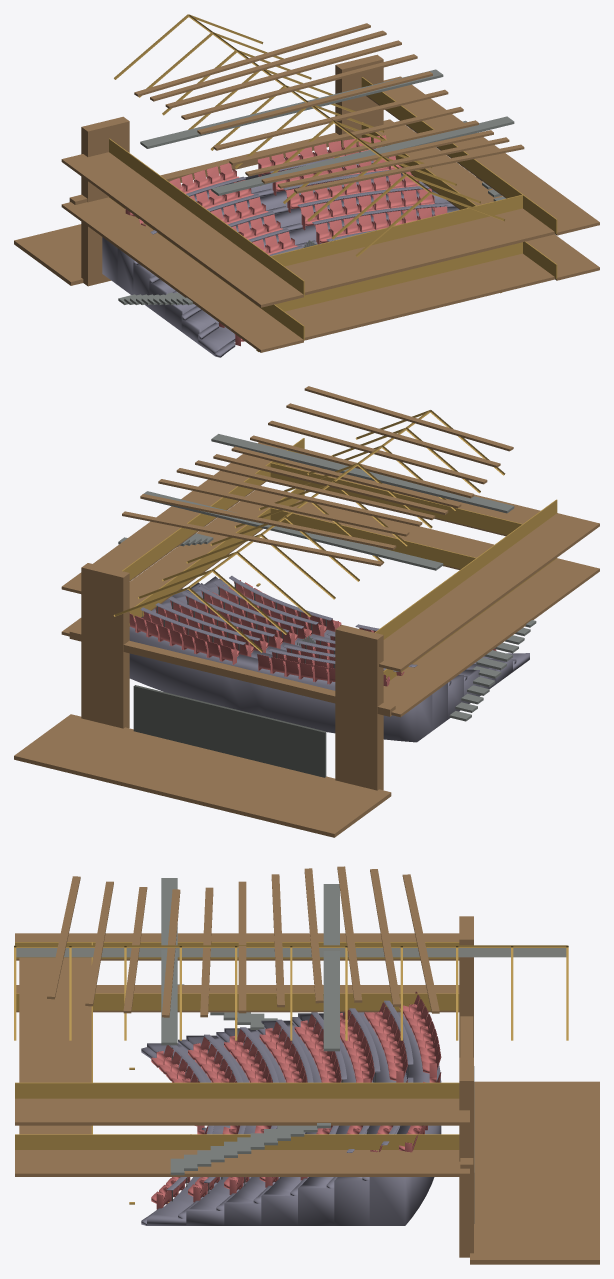
The model's file is conservatory-props.glb.
3 renders of one model, top to bottom at view 1: azimuth 30°, elevation 25°; view 2: azimuth 150°, elevation 25°; view 3: azimuth 270°, elevation 25°, orthographic. The views are drawn at different scales.
Parts seen in each view (by area): view 1: hall_structure, hall_seating, chapel_vault; view 2: hall_structure, hall_seating, chapel_vault; view 3: hall_structure, hall_seating, chapel_vault.
Boxes of the visible parts, <box> form: hall_structure: <box>14,23,599,352</box>; hall_seating: <box>102,135,459,357</box>; chapel_vault: <box>114,14,504,256</box>; hall_structure: <box>14,386,599,837</box>; hall_seating: <box>129,576,529,742</box>; chapel_vault: <box>113,410,505,652</box>; hall_structure: <box>15,866,599,1264</box>; hall_seating: <box>141,991,441,1225</box>; chapel_vault: <box>14,945,568,1040</box>.
Bounding box in the file's own units: 28.2 × 16.42 × 36.07.
